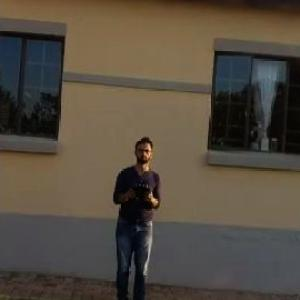follow: (108, 131, 166, 299)
